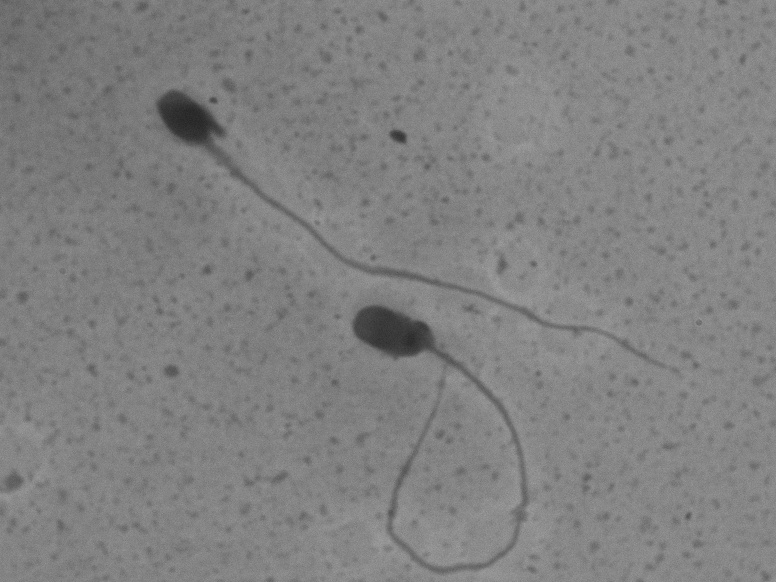Abnormal: (326, 301, 547, 577)
Normal: (139, 78, 709, 397)
